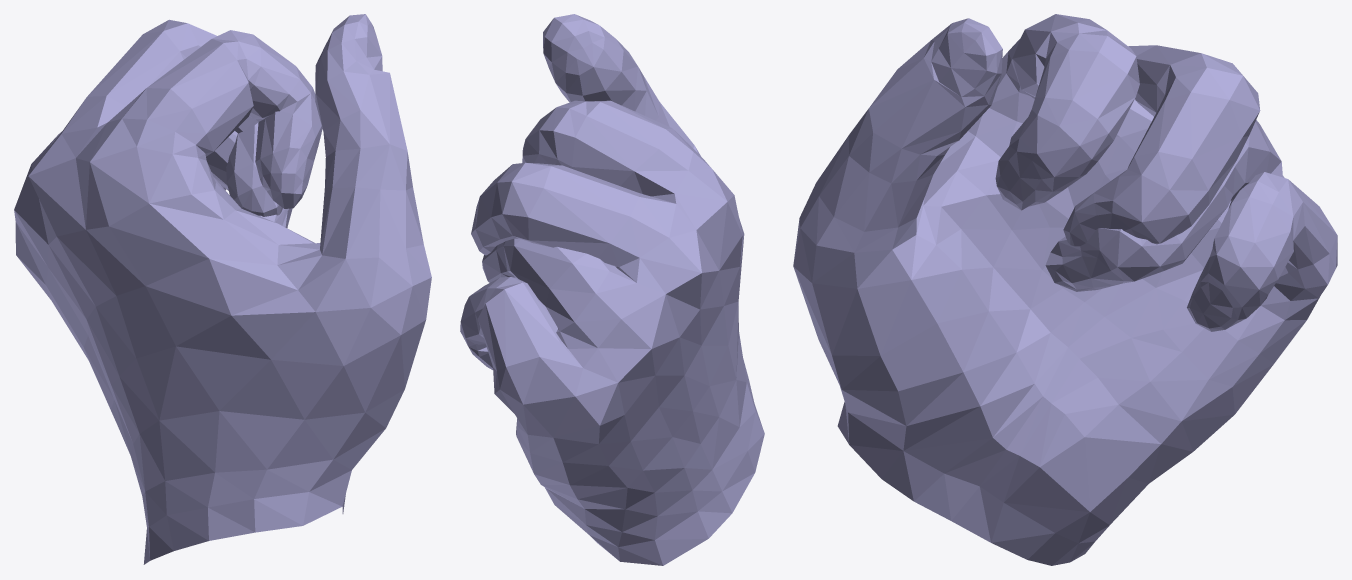
Rendered from frame_0074_source_000074_hand.glb.
3 views of the same model, side by side, from view 1: azimuth 30°, elevation 25°; view 2: azimuth 150°, elevation 25°; view 3: azimuth 270°, elevation 25° (orthographic). The views are drawn at different scales.
Parts seen in each view (by area): view 1: world; view 2: world; view 3: world.
Boxes of the visible parts, box(x1,y1,x2,y2) form: world: box(14, 14, 431, 564); world: box(460, 14, 764, 565); world: box(793, 14, 1337, 565).
Size of the model in its own units: 0.0605 by 0.1212 by 0.1018.
